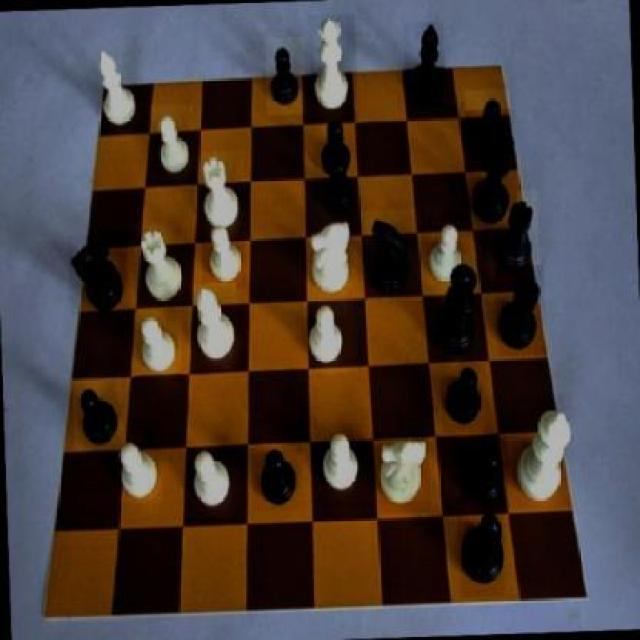bishop: (457, 500, 506, 598), (403, 21, 446, 110)
black-bishop: (464, 108, 518, 232)
black-king: (365, 209, 422, 302), (66, 232, 129, 316)
black-knight: (250, 437, 304, 511), (72, 374, 122, 450), (440, 358, 490, 434), (458, 437, 509, 511), (464, 88, 512, 164), (264, 37, 306, 115), (317, 154, 361, 223), (312, 119, 355, 183)
black-pawn: (423, 254, 479, 363)
black-queen: (495, 266, 548, 357), (485, 191, 540, 278)
black-rook: (186, 283, 239, 371), (94, 44, 144, 134)
white-bishop: (511, 394, 577, 508)
white-king: (303, 216, 359, 300), (374, 431, 431, 513)
white-knight: (314, 423, 370, 510), (183, 442, 240, 518), (304, 294, 358, 374), (147, 103, 196, 180), (423, 212, 471, 290), (132, 311, 182, 378), (114, 432, 161, 502), (200, 223, 247, 291)
white-pawn: (307, 12, 358, 122)
white-queen: (192, 151, 246, 241), (134, 225, 187, 312)
